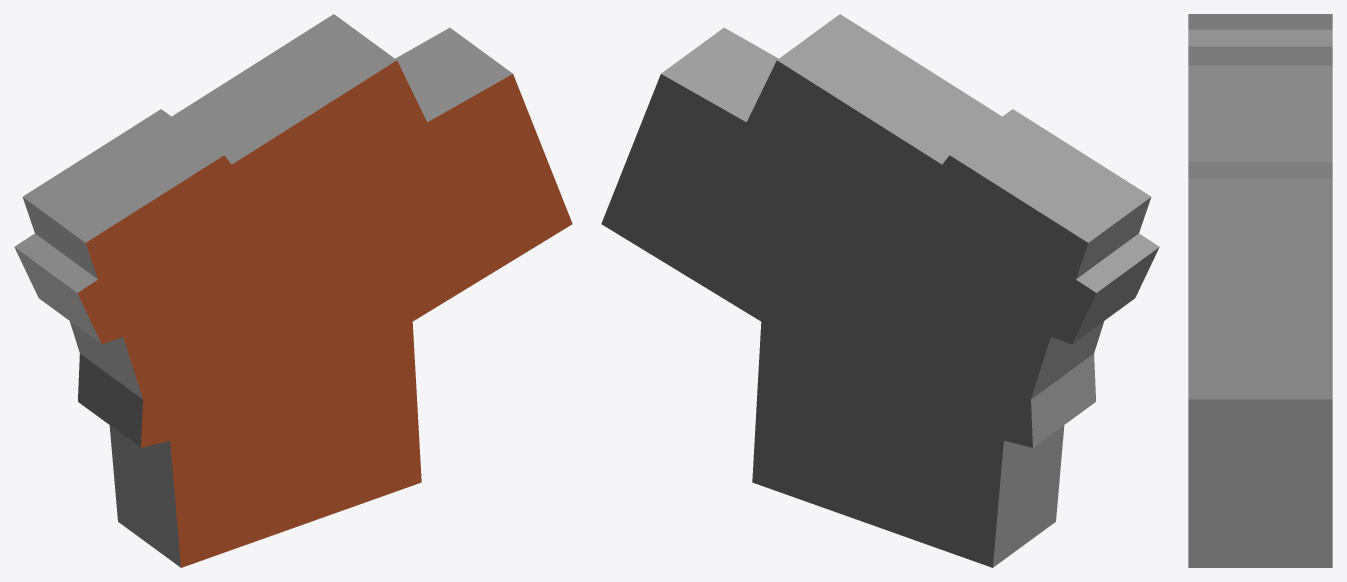
Rendered from construction_4005_assumed_A_Casa_h6m.obj.
The picture shows the model from 3 angles, left to right: view 1: azimuth 30°, elevation 25°; view 2: azimuth 150°, elevation 25°; view 3: azimuth 270°, elevation 25°; orthographic projection. The views are drawn at different scales.
Parts seen in each view (by area): view 1: construction_4005_assumed_A_Casa; view 2: construction_4005_assumed_A_Casa; view 3: construction_4005_assumed_A_Casa.
Boxes of the visible parts, box(x1,y1,x2,y2) form: construction_4005_assumed_A_Casa: box(14, 14, 572, 567); construction_4005_assumed_A_Casa: box(601, 14, 1159, 567); construction_4005_assumed_A_Casa: box(1188, 14, 1332, 567).
Size of the model in its own units: 27.17 by 23.85 by 6.
